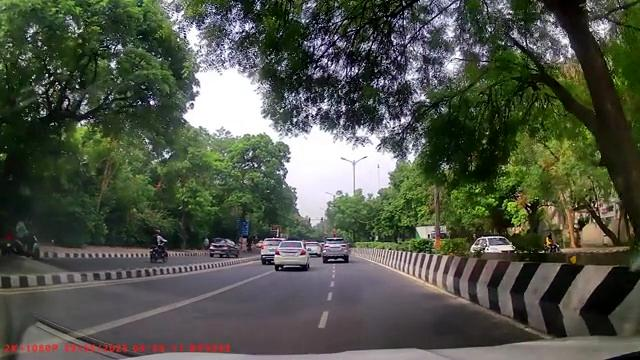motorcycle_with_helmet: (148, 229, 169, 264)
